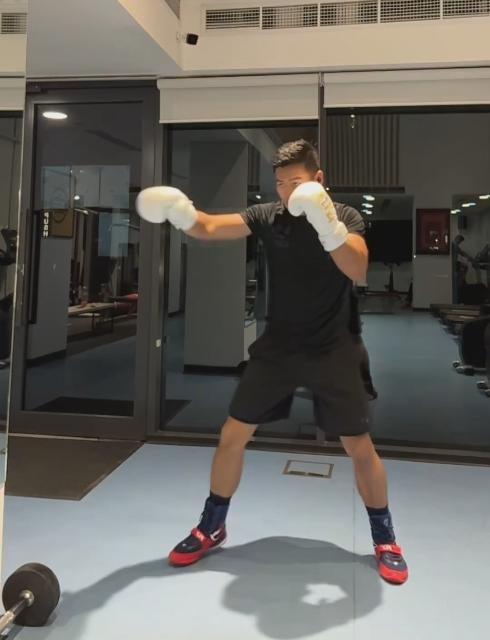punch: (136, 139, 410, 589)
